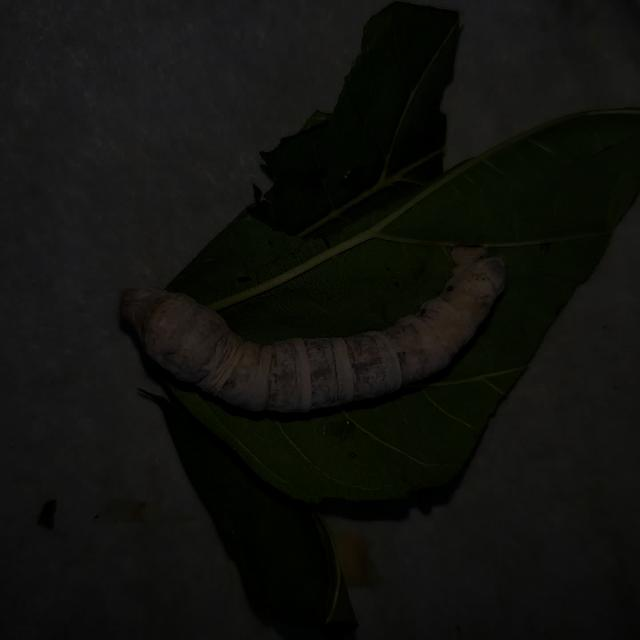Grasserie: (88, 221, 523, 442)
